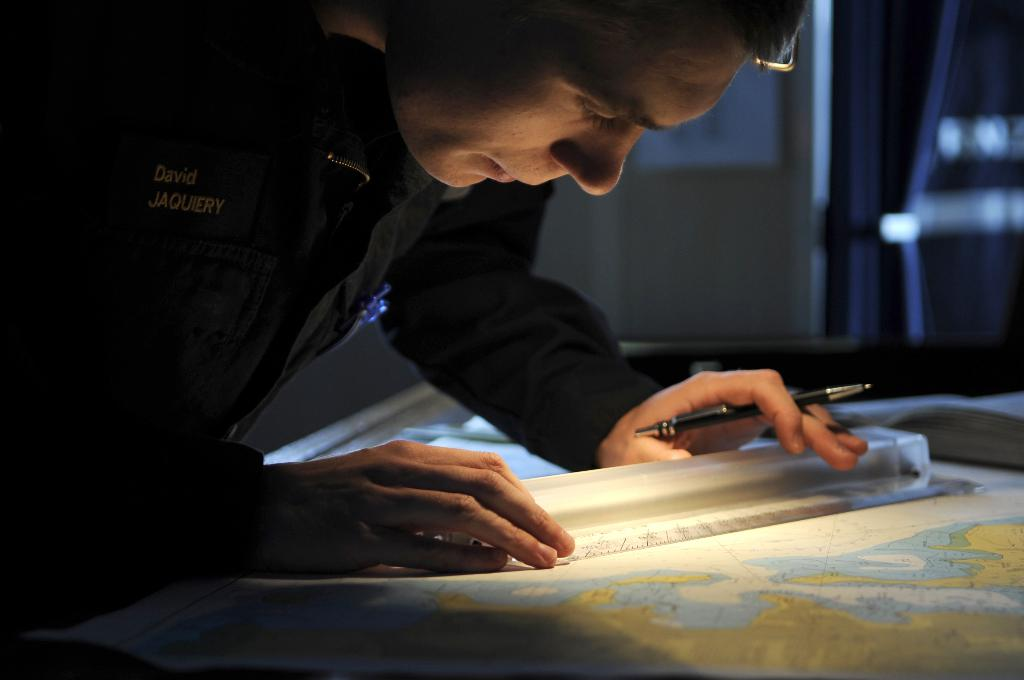Pen: (630, 382, 876, 436)
